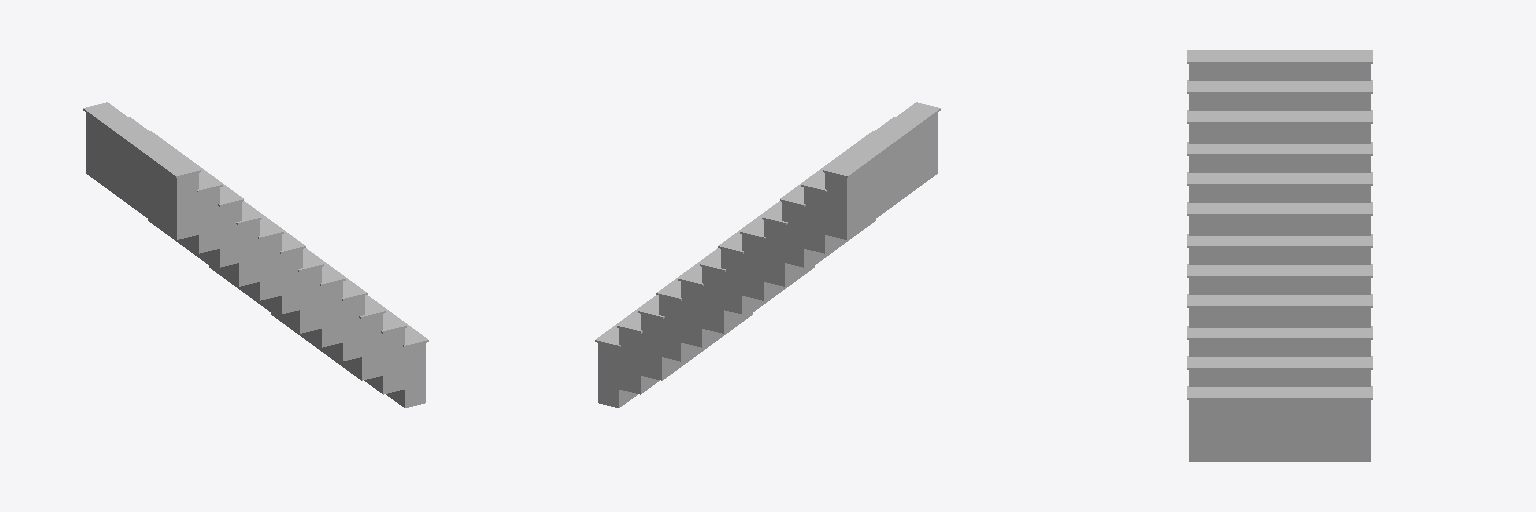
Rendered from Bschody.obj.
The picture shows the model from 3 angles: view 1: azimuth 30°, elevation 25°; view 2: azimuth 150°, elevation 25°; view 3: azimuth 270°, elevation 25°; orthographic projection.
Visible parts, largest first — view 1: Kostka.001; view 2: Kostka.001; view 3: Kostka.001.
Boxes of the visible parts, x1,y1,x2,y2 form: Kostka.001: [83, 102, 428, 407]; Kostka.001: [595, 102, 940, 407]; Kostka.001: [1187, 50, 1372, 461].
Size of the model in its own units: 2.4 by 2.62 by 1.53.